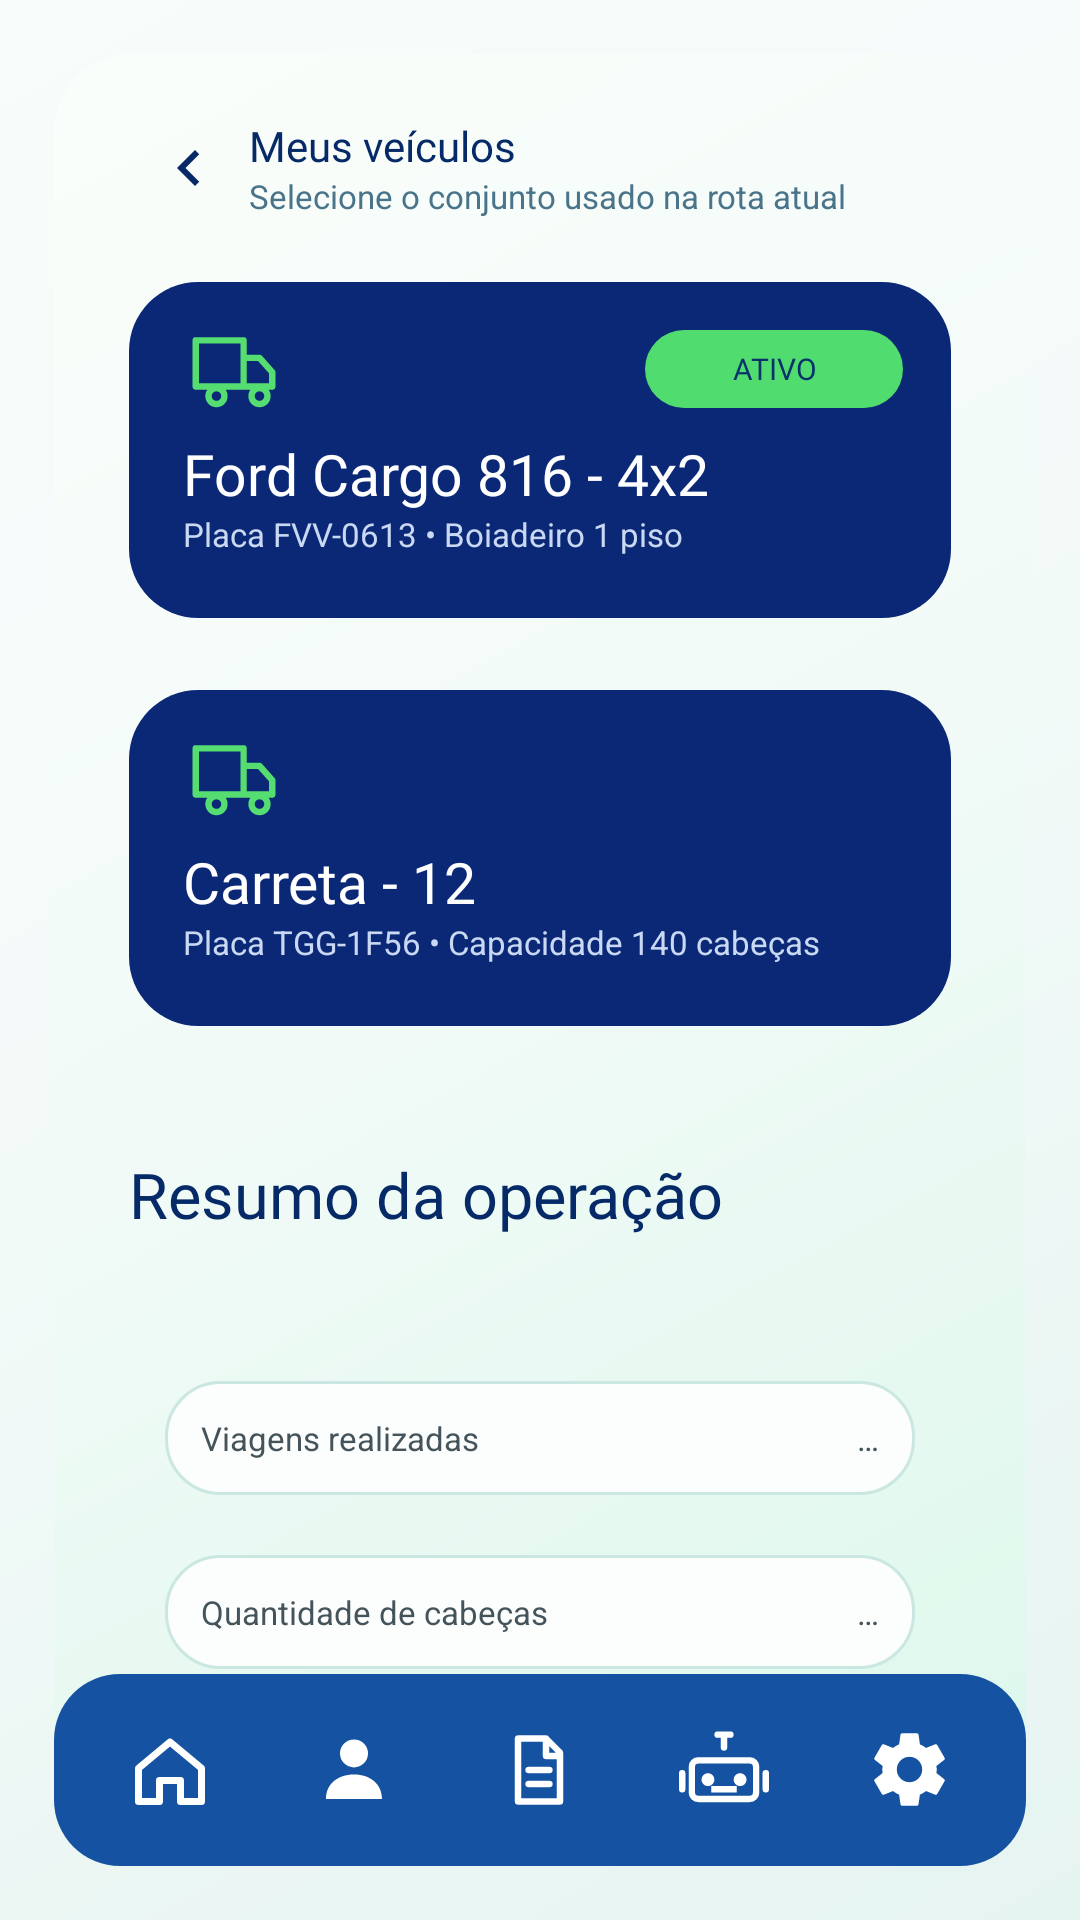

Point at icon controls on the screen. Image size 1080*1920, points as [x,y].
Assistente: [724,1767]
Caminhão: [234,372]
Configurações: [909,1769]
Documentos: [539,1770]
Início: [170,1771]
Perfil: [354,1769]
Voltar para a home: [188,168]
